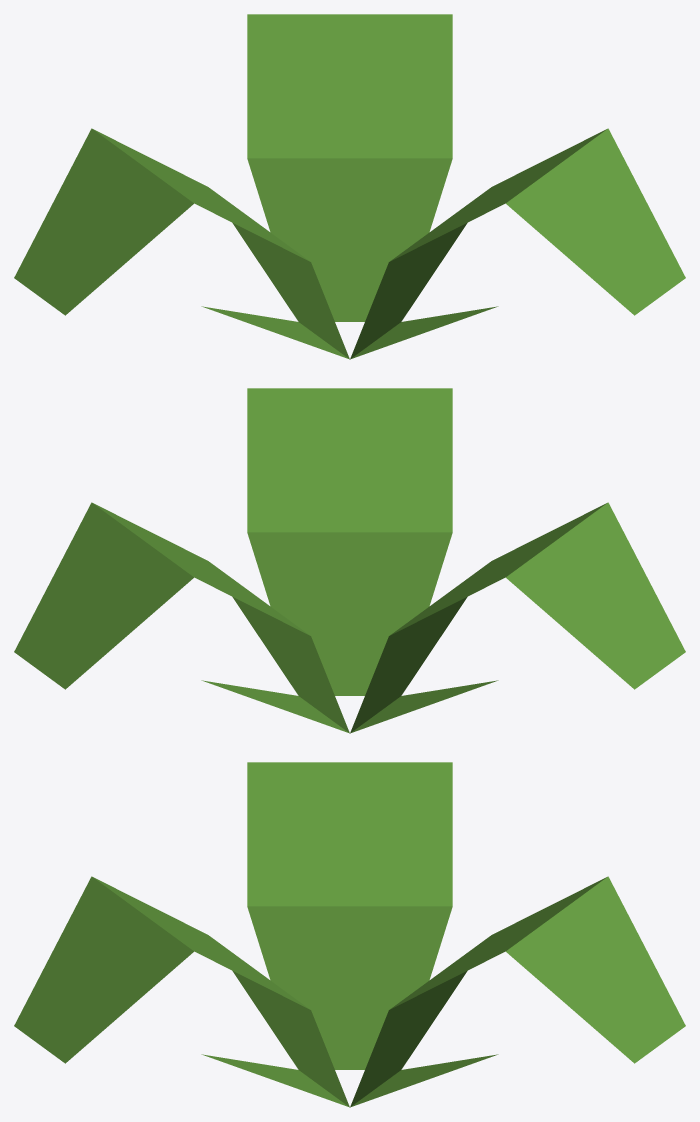
File: plant_bushLargeTriangle.glb
3 renders of one model, top to bottom at view 1: azimuth 30°, elevation 25°; view 2: azimuth 150°, elevation 25°; view 3: azimuth 270°, elevation 25°, orthographic.
Visible parts, largest first — view 1: plant_bushLargeTriangle; view 2: plant_bushLargeTriangle; view 3: plant_bushLargeTriangle.
Boxes of the visible parts, x1,y1,x2,y2 form: plant_bushLargeTriangle: (14,14,685,359); plant_bushLargeTriangle: (14,388,685,733); plant_bushLargeTriangle: (14,762,685,1107).
Size of the model in its own units: 0.4077 by 0.1693 by 0.4708.
